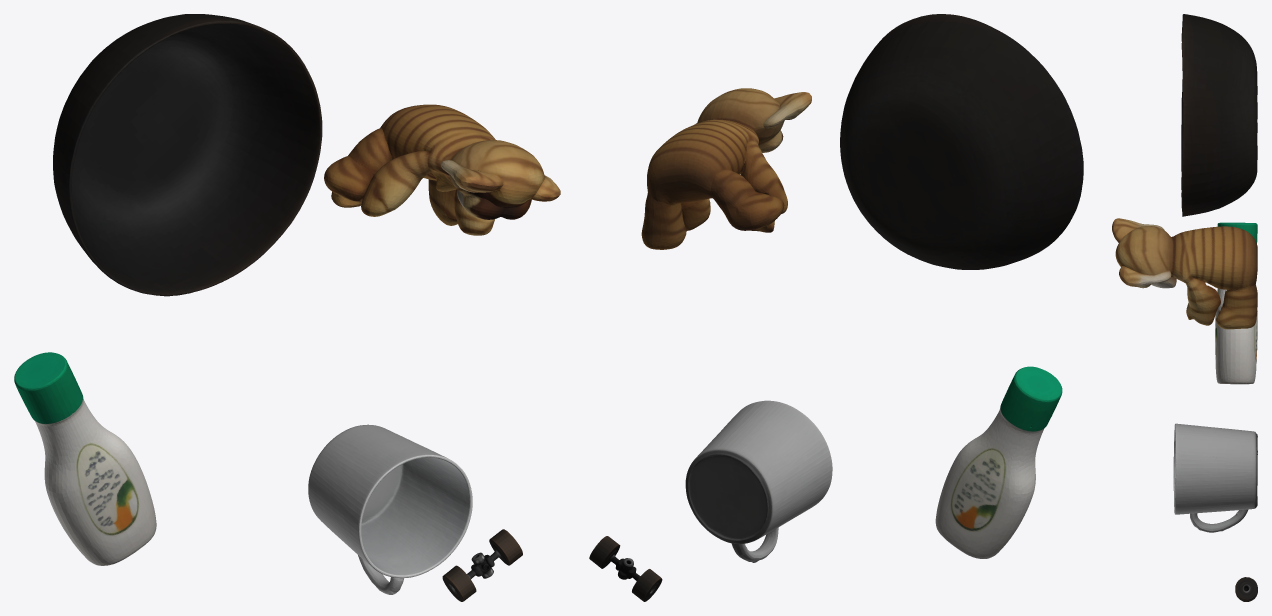
3 views of the same model, side by side, from view 1: azimuth 30°, elevation 25°; view 2: azimuth 150°, elevation 25°; view 3: azimuth 270°, elevation 25° (orthographic). The views are drawn at different scales.
Visible parts, largest first — view 1: image_0000_segmented_geometry_0, image_0001_segmented_geometry_0, image_0002_segmented_geometry_0, image_0003_segmented_geometry_0, image_0004_segmented_geometry_0; view 2: image_0000_segmented_geometry_0, image_0002_segmented_geometry_0, image_0001_segmented_geometry_0, image_0003_segmented_geometry_0, image_0004_segmented_geometry_0; view 3: image_0000_segmented_geometry_0, image_0002_segmented_geometry_0, image_0001_segmented_geometry_0, image_0003_segmented_geometry_0, image_0004_segmented_geometry_0.
Part boxes in pixels (left/top/right/bottom): image_0000_segmented_geometry_0: left=53, top=14, right=322, bottom=296; image_0001_segmented_geometry_0: left=308, top=424, right=472, bottom=594; image_0002_segmented_geometry_0: left=324, top=104, right=560, bottom=235; image_0003_segmented_geometry_0: left=14, top=352, right=156, bottom=565; image_0004_segmented_geometry_0: left=442, top=529, right=522, bottom=601; image_0000_segmented_geometry_0: left=840, top=14, right=1083, bottom=269; image_0002_segmented_geometry_0: left=641, top=88, right=811, bottom=249; image_0001_segmented_geometry_0: left=685, top=400, right=832, bottom=562; image_0003_segmented_geometry_0: left=935, top=366, right=1062, bottom=558; image_0004_segmented_geometry_0: left=589, top=536, right=662, bottom=601; image_0000_segmented_geometry_0: left=1181, top=14, right=1257, bottom=216; image_0002_segmented_geometry_0: left=1112, top=218, right=1257, bottom=329; image_0001_segmented_geometry_0: left=1173, top=423, right=1257, bottom=532; image_0003_segmented_geometry_0: left=1215, top=222, right=1257, bottom=384; image_0004_segmented_geometry_0: left=1235, top=577, right=1257, bottom=601.
Bounding box in the file's own units: 0.2953 × 0.3812 × 0.1063.
Materials: 5 (5 with a texture image).
